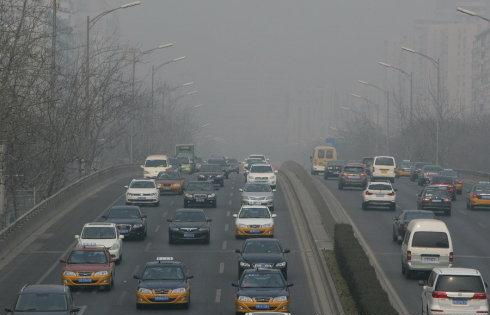car: (397, 217, 452, 281), (417, 266, 488, 315), (131, 256, 194, 307), (230, 264, 296, 312), (59, 245, 117, 290), (4, 281, 82, 314), (232, 237, 291, 278), (72, 222, 125, 265), (166, 207, 213, 246), (101, 204, 148, 242), (391, 208, 437, 244), (232, 205, 277, 238), (237, 181, 277, 210), (123, 177, 161, 206), (416, 183, 452, 213), (360, 181, 396, 211), (182, 180, 220, 207), (309, 144, 338, 176), (139, 154, 172, 181), (195, 162, 228, 189), (244, 163, 278, 188), (155, 168, 184, 195), (338, 164, 368, 190), (467, 178, 490, 209), (437, 168, 464, 194), (371, 155, 396, 181), (430, 175, 455, 199), (242, 156, 269, 177), (204, 157, 228, 180), (417, 164, 441, 186), (324, 159, 347, 179), (358, 156, 379, 177), (174, 153, 194, 174), (411, 161, 430, 182), (397, 158, 416, 178), (225, 157, 243, 175)
